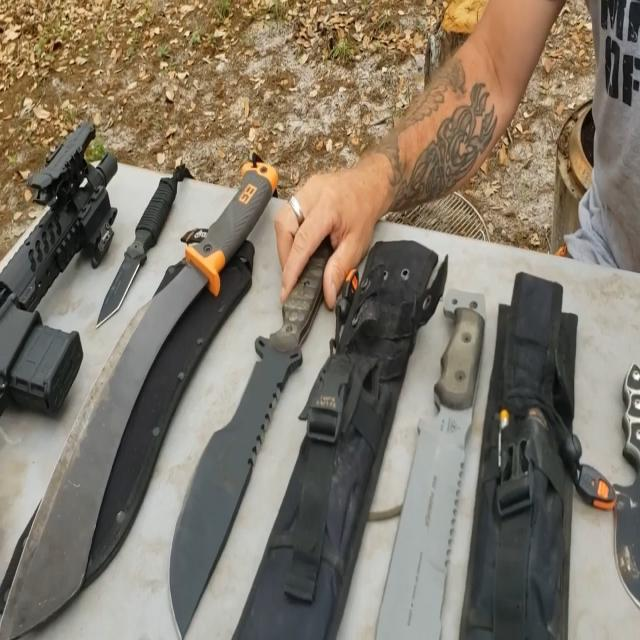knife: (0, 141, 292, 632), (158, 222, 349, 628), (368, 253, 498, 639), (91, 143, 197, 335)
long weapon: (1, 105, 128, 442)
